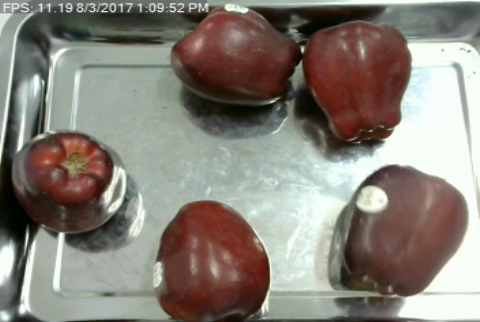Apple: (337, 161, 470, 302), (301, 9, 418, 148), (152, 197, 274, 322), (7, 125, 134, 241), (168, 6, 302, 108)
